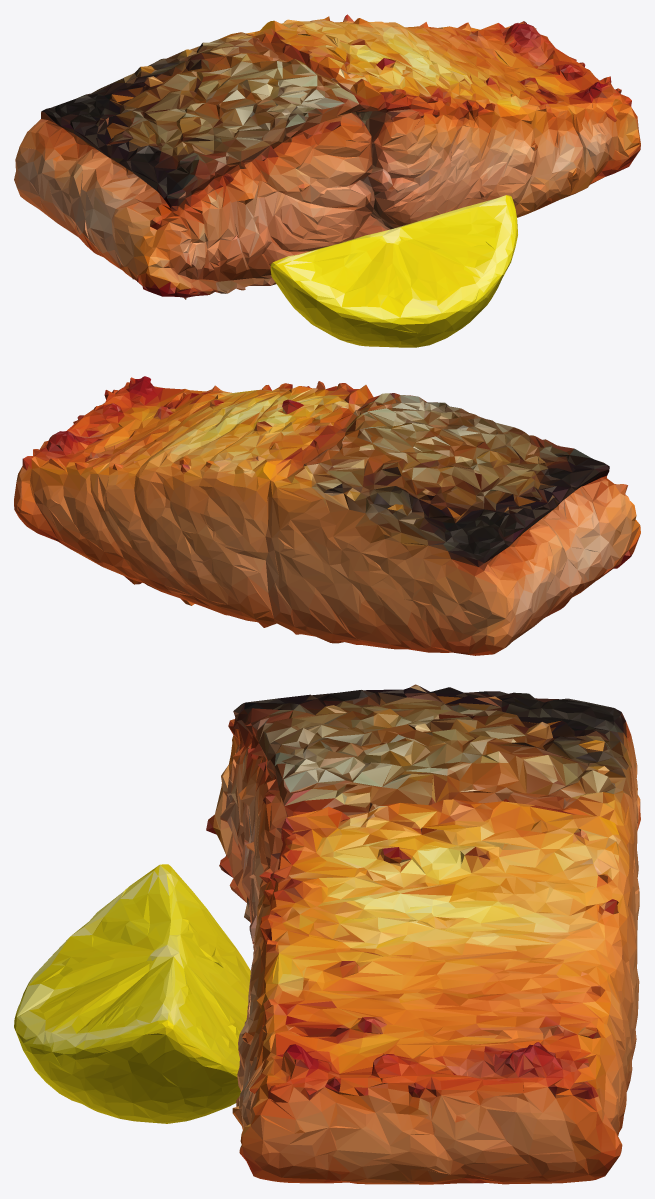
The model's file is salmon_plate.glb.
The picture shows the model from 3 angles, top to bottom: view 1: azimuth 30°, elevation 25°; view 2: azimuth 150°, elevation 25°; view 3: azimuth 270°, elevation 25°; orthographic projection. The views are drawn at different scales.
Parts seen in each view (by area): view 1: geometry_0; view 2: geometry_0; view 3: geometry_0.
Part boxes in pixels (x1,y1,x2,y2): geometry_0: (14,14,640,347); geometry_0: (14,376,640,655); geometry_0: (14,684,640,1184).
Size of the model in its own units: 0.22 by 0.0874 by 0.1554.
Materials: 1 (1 with a texture image).
